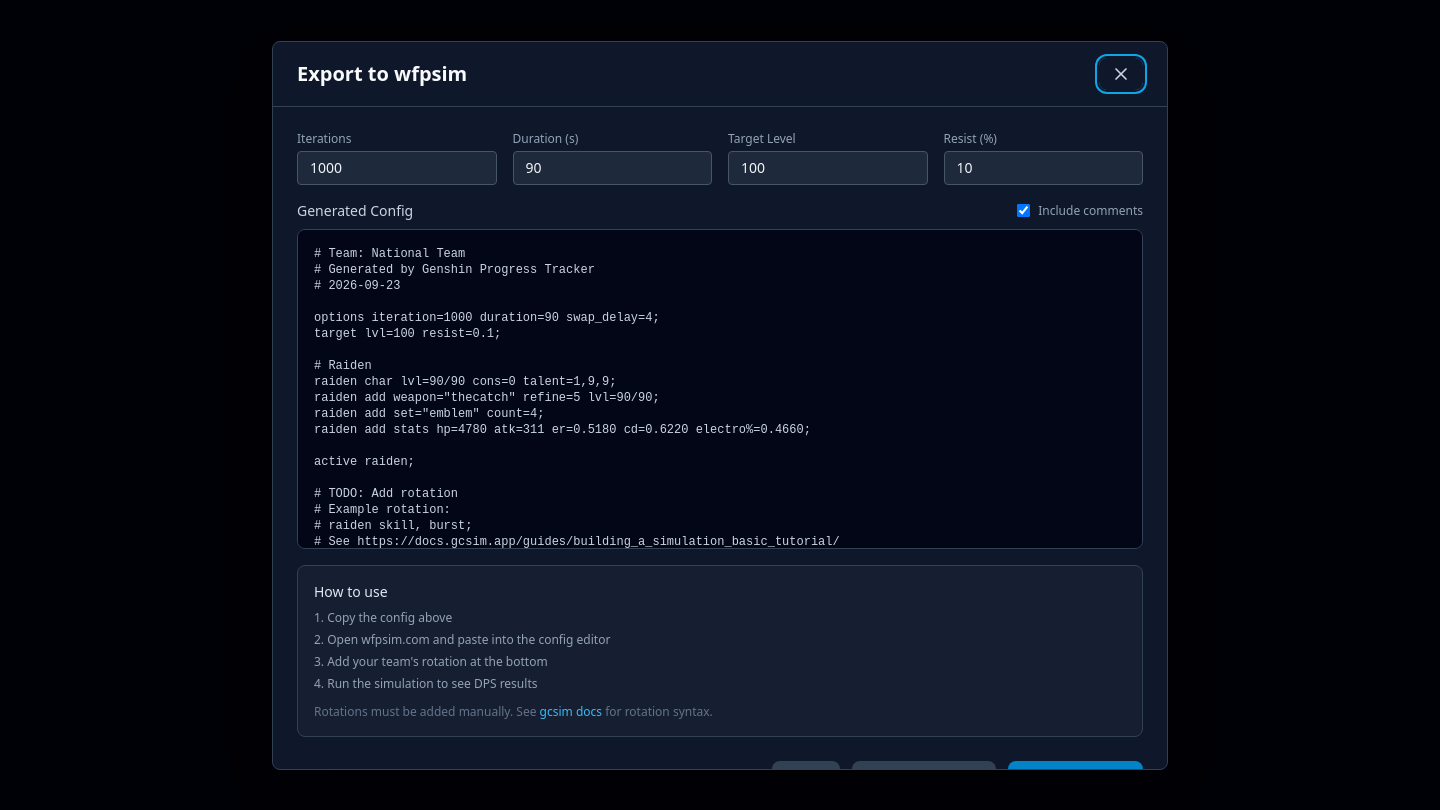
Test case: WfpsimExportModal › allows toggling comments
Expected: the text "# Team:" is shown, [314,246,840,548]
Toggle comments off
Click the checkbox labelled "Include comments": (1024, 210) [1017,204,1030,217]
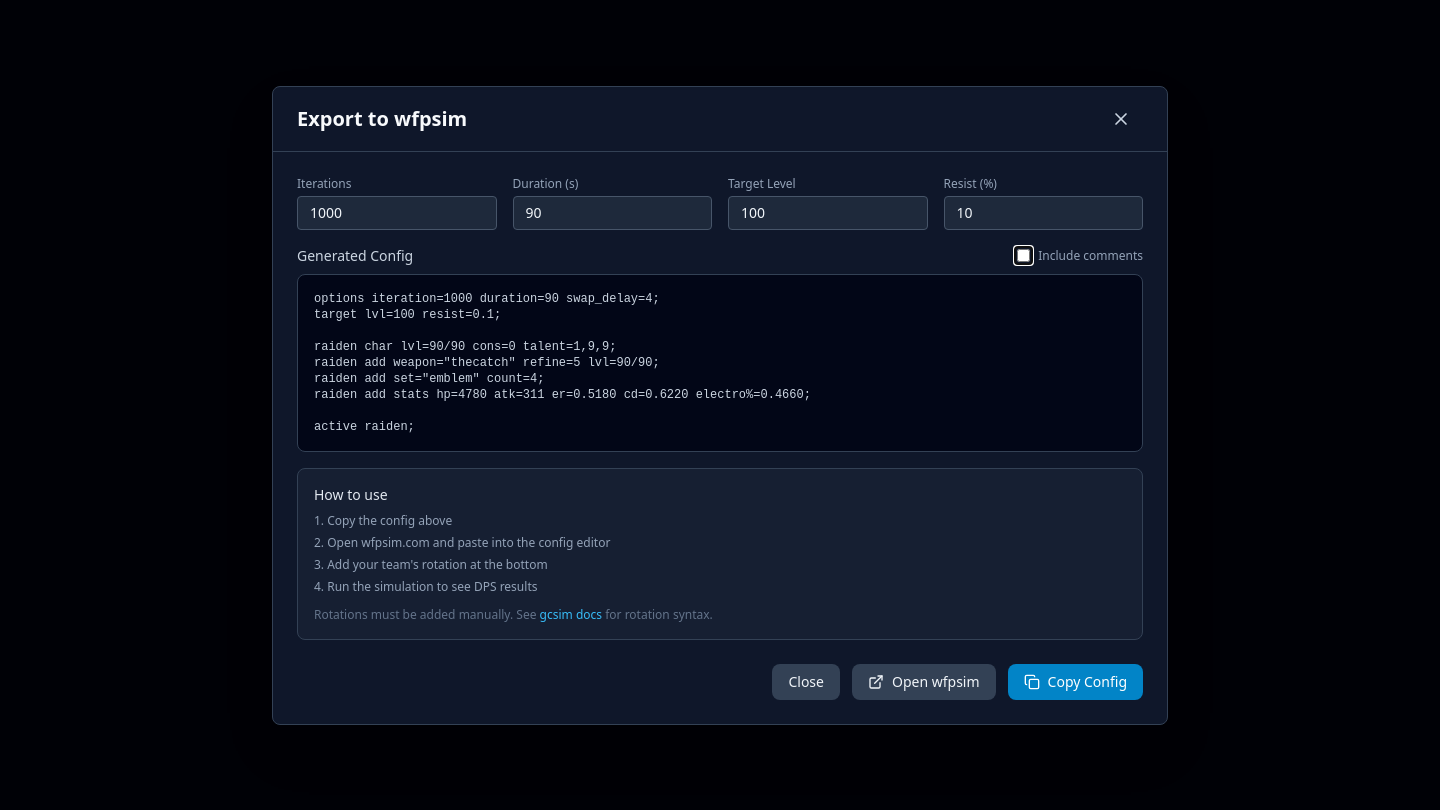
Now the text "# Team:" is gone
